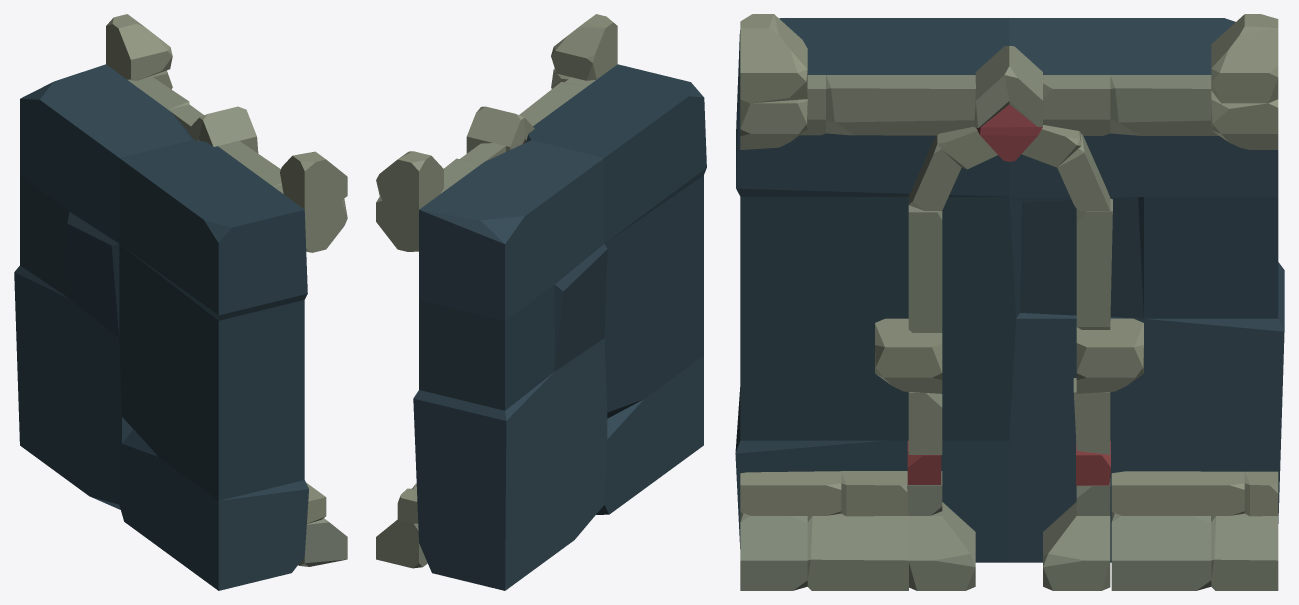
File: wall_tile_02.fbx
3 renders of one model, left to right at view 1: azimuth 30°, elevation 25°; view 2: azimuth 150°, elevation 25°; view 3: azimuth 270°, elevation 25°, orthographic. The views are drawn at different scales.
Visible parts, largest first — view 1: wall_tile_02; view 2: wall_tile_02; view 3: wall_tile_02.
Boxes of the visible parts, x1=… form: wall_tile_02: x1=14, y1=14, x2=347, y2=590; wall_tile_02: x1=376, y1=14, x2=706, y2=590; wall_tile_02: x1=735, y1=14, x2=1284, y2=590.
Bounding box in the file's own units: 157 × 450 × 408.
